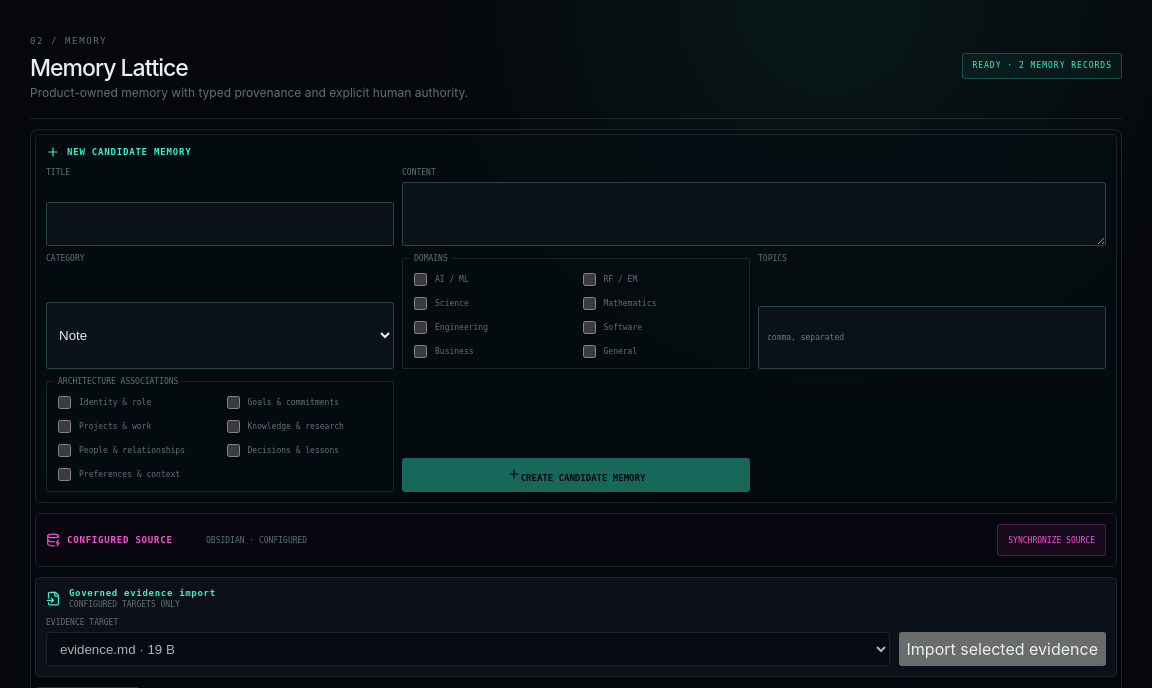
Test: MemoryWorkspace › reports candidate creation separately from a failed lattice refresh
The width and height of the screenshot is (1152, 688).
Type "New governed decision" into the field named "Memory title" at {"x": 220, "y": 224}, box [46,202,394,246]
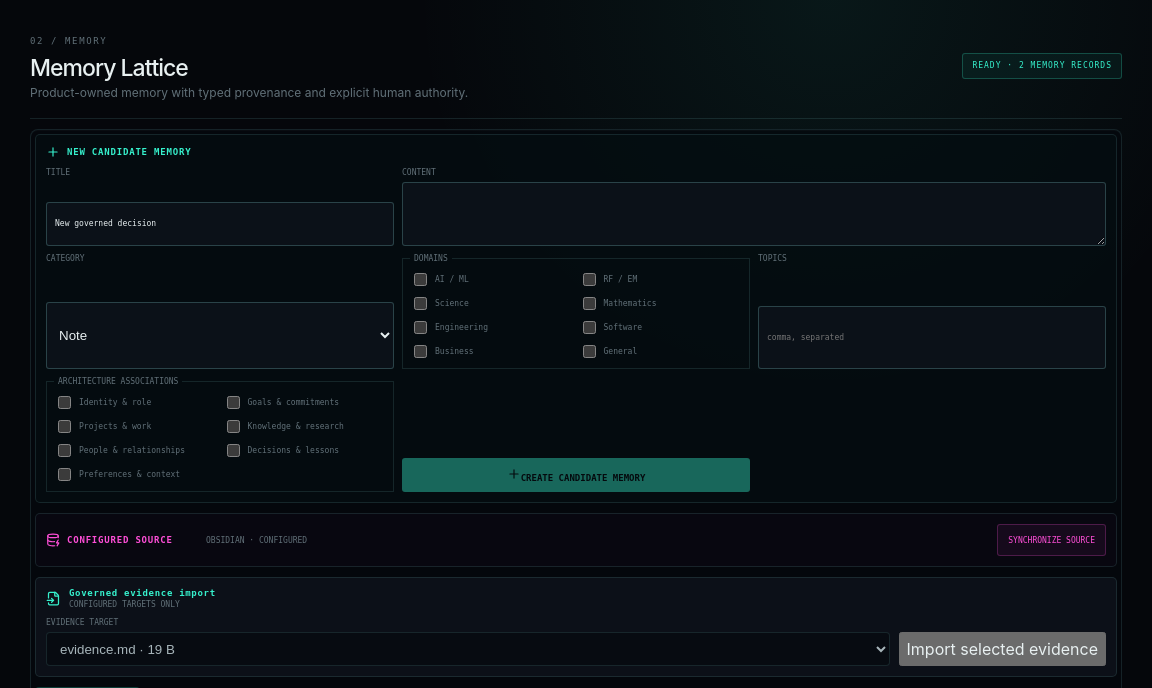
Type "Keep candidate authority until human review." into the text box named "Memory content" at {"x": 754, "y": 214}, box [402,182,1106,246]
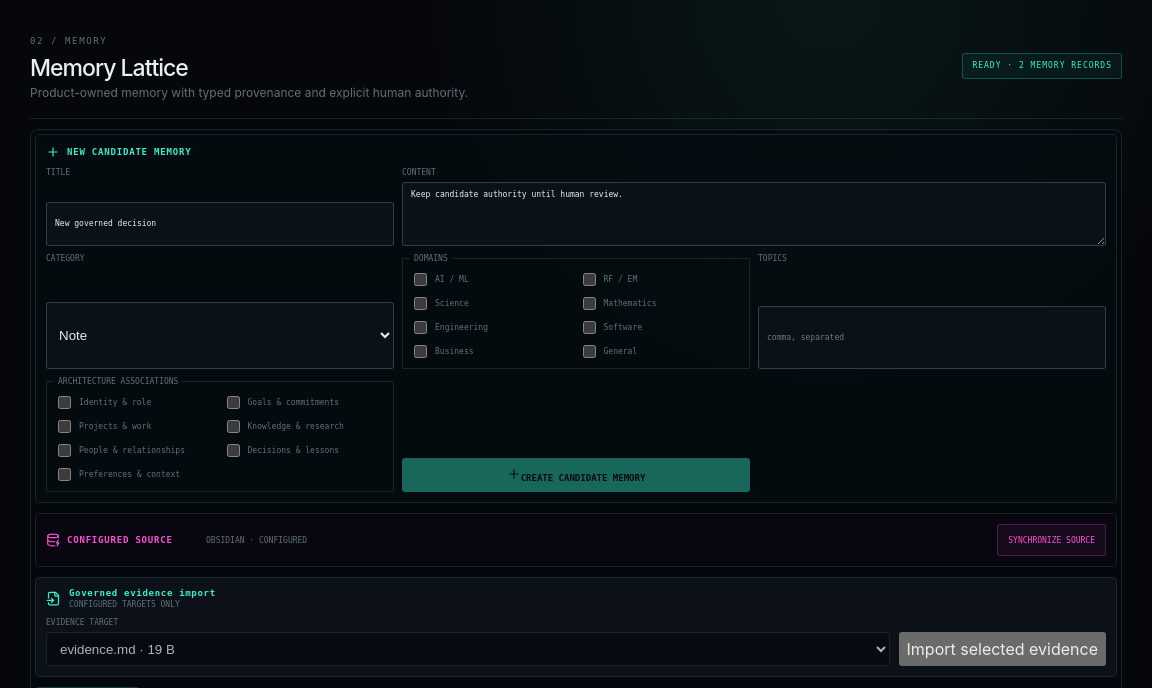
Click the checkbox labelled "Software" at {"x": 589, "y": 328}, box [582,321,596,334]
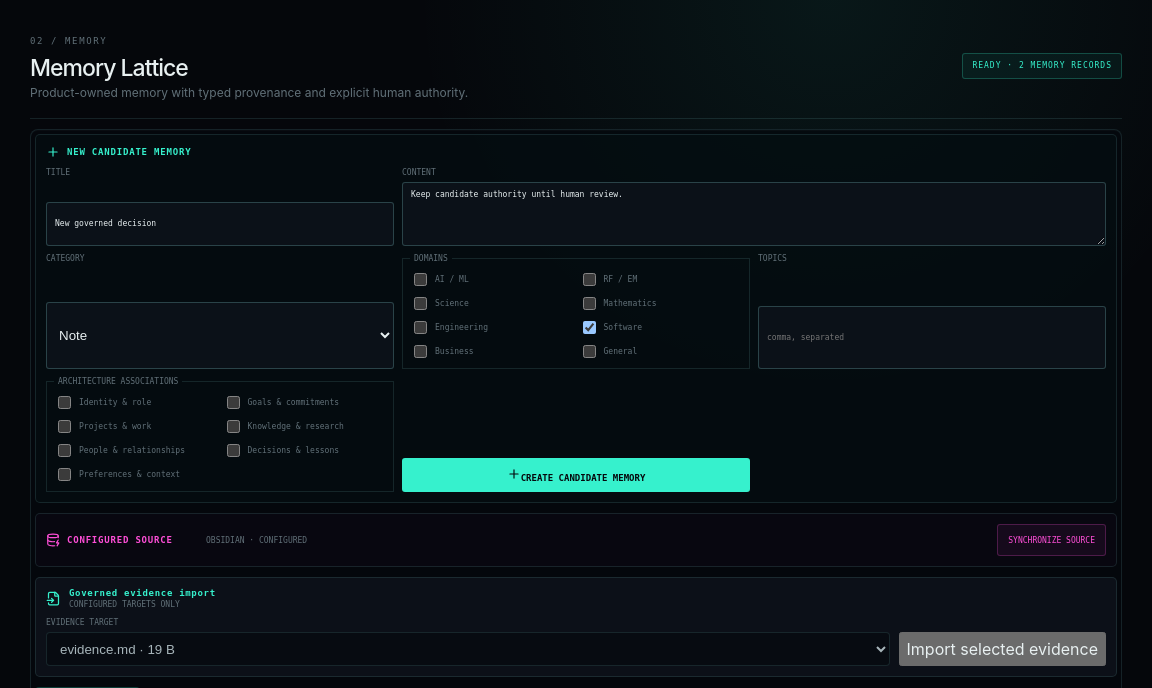
Click the button "Create candidate memory" at {"x": 576, "y": 475}, box [402,458,750,492]
(page scrolled)
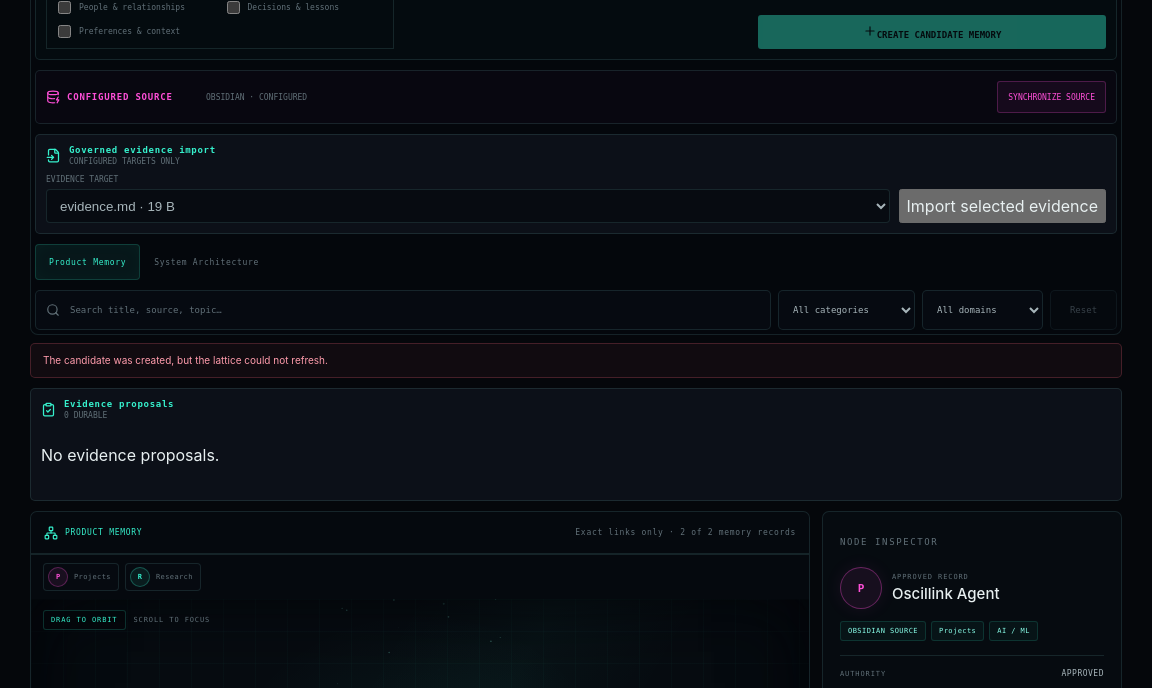
Now the message "The candidate was created, but the lattice could not refresh." is shown, box [30,343,1122,378]
